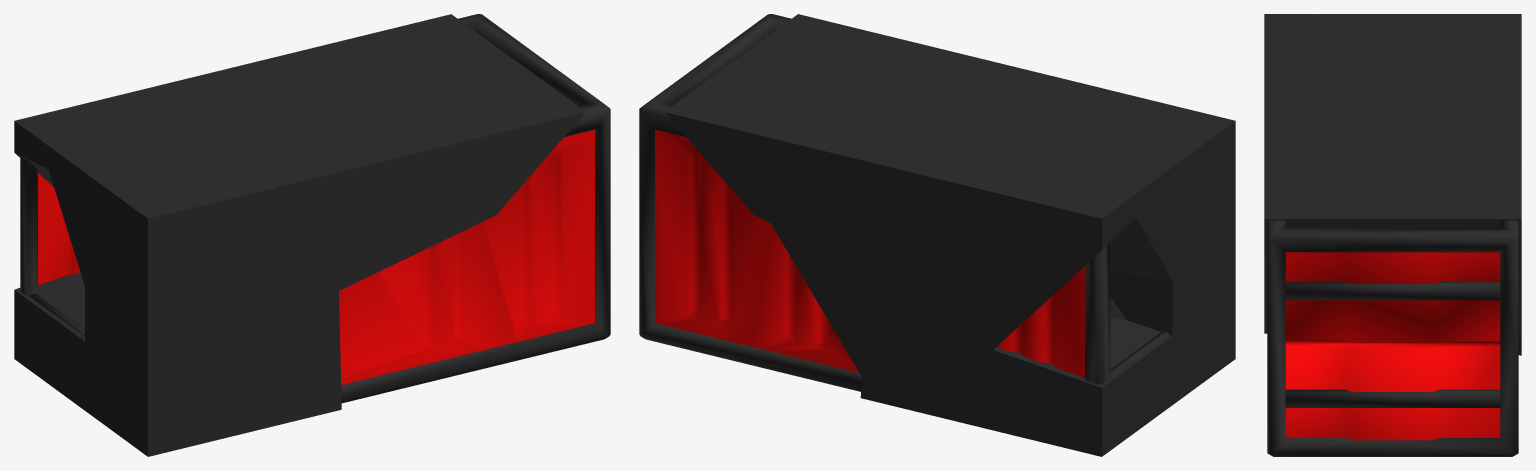
Rendered from Container Red Destroy.fbx.
3 views of the same model, side by side, from view 1: azimuth 30°, elevation 25°; view 2: azimuth 150°, elevation 25°; view 3: azimuth 270°, elevation 25° (orthographic). The views are drawn at different scales.
Visible parts, largest first — view 1: Big_Container_Long.017_cell.016, Big_Container_Long.017_cell.013, Big_Container_Long.017_cell.009, Big_Container_Long.017_cell.006, Big_Container_Long.017_cell.004, Big_Container_Long.017_cell.002, Big_Container_Long.017_cell, Big_Container_Long.017_cell.007, Big_Container_Long.017_cell.005; view 2: Big_Container_Long.017_cell.006, Big_Container_Long.017_cell.016, Big_Container_Long.017_cell.005, Big_Container_Long.017_cell.007, Big_Container_Long.017_cell, Big_Container_Long.017_cell.004, Big_Container_Long.017_cell.002, Big_Container_Long.017_cell.009; view 3: Big_Container_Long.017_cell.012, Big_Container_Long.017_cell.016, Big_Container_Long.017_cell, Big_Container_Long.017_cell.006, Big_Container_Long.017_cell.007, Big_Container_Long.017_cell.010, Big_Container_Long.017_cell.002, Big_Container_Long.017_cell.011, Big_Container_Long.017_cell.009.
Part boxes in pixels (left/top/right/bottom): Big_Container_Long.017_cell.016: left=233, top=14, right=585, bottom=290; Big_Container_Long.017_cell.013: left=339, top=129, right=594, bottom=384; Big_Container_Long.017_cell.009: left=98, top=205, right=560, bottom=456; Big_Container_Long.017_cell.006: left=14, top=44, right=327, bottom=284; Big_Container_Long.017_cell.004: left=85, top=269, right=261, bottom=440; Big_Container_Long.017_cell.002: left=122, top=158, right=281, bottom=281; Big_Container_Long.017_cell: left=20, top=14, right=610, bottom=403; Big_Container_Long.017_cell.007: left=46, top=139, right=244, bottom=286; Big_Container_Long.017_cell.005: left=14, top=272, right=98, bottom=420; Big_Container_Long.017_cell.006: left=655, top=129, right=1135, bottom=377; Big_Container_Long.017_cell.016: left=665, top=14, right=1103, bottom=222; Big_Container_Long.017_cell.005: left=860, top=317, right=1186, bottom=456; Big_Container_Long.017_cell.007: left=1031, top=115, right=1210, bottom=280; Big_Container_Long.017_cell: left=639, top=14, right=1110, bottom=391; Big_Container_Long.017_cell.004: left=1110, top=184, right=1235, bottom=378; Big_Container_Long.017_cell.002: left=1064, top=88, right=1235, bottom=207; Big_Container_Long.017_cell.009: left=1110, top=296, right=1235, bottom=394; Big_Container_Long.017_cell.012: left=1285, top=252, right=1500, bottom=440; Big_Container_Long.017_cell.016: left=1264, top=75, right=1521, bottom=255; Big_Container_Long.017_cell: left=1267, top=220, right=1518, bottom=456; Big_Container_Long.017_cell.006: left=1379, top=14, right=1521, bottom=334; Big_Container_Long.017_cell.007: left=1313, top=14, right=1459, bottom=81; Big_Container_Long.017_cell.010: left=1285, top=282, right=1500, bottom=300; Big_Container_Long.017_cell.002: left=1264, top=14, right=1336, bottom=76; Big_Container_Long.017_cell.011: left=1285, top=389, right=1500, bottom=407; Big_Container_Long.017_cell.009: left=1264, top=255, right=1267, bottom=333.
Bounding box in the file's own units: 877 × 428 × 436.
